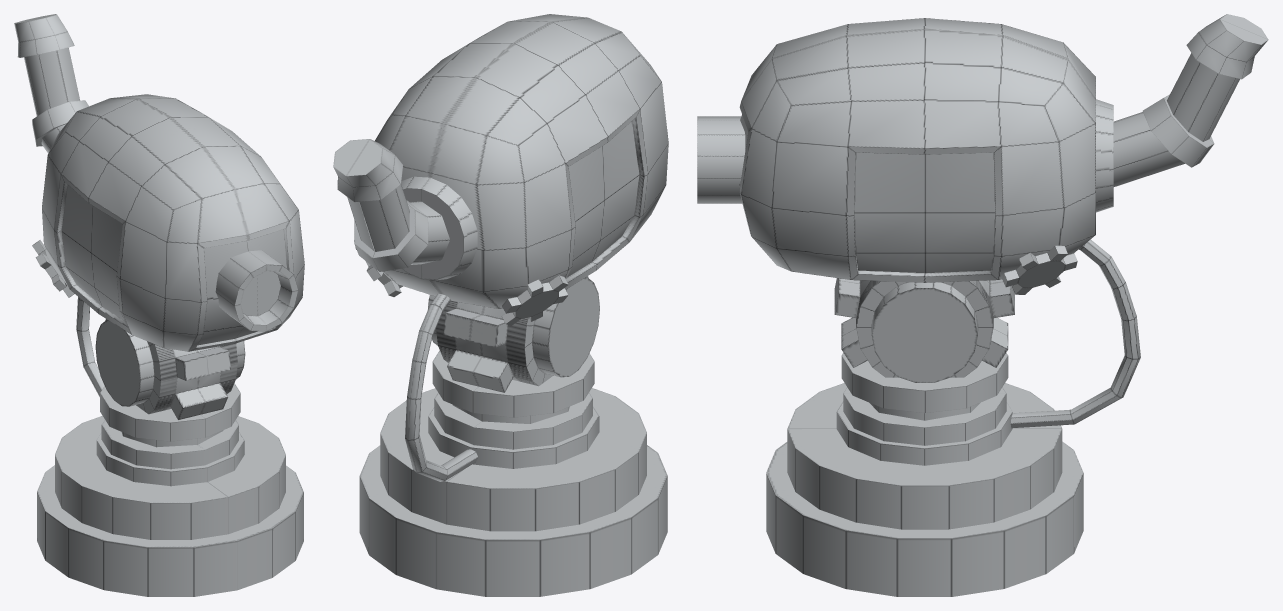
The model's file is cannon_normal.FBX.
3 renders of one model, left to right at view 1: azimuth 30°, elevation 25°; view 2: azimuth 150°, elevation 25°; view 3: azimuth 270°, elevation 25°, orthographic. The views are drawn at different scales.
Parts seen in each view (by area): view 1: Box001, Cylinder007; view 2: Box001, Cylinder007; view 3: Box001, Cylinder007.
Boxes of the visible parts, x1,y1,x2,y2 form: Box001: [14, 14, 304, 486]; Cylinder007: [37, 416, 303, 596]; Box001: [333, 14, 668, 481]; Cylinder007: [359, 388, 667, 596]; Box001: [697, 14, 1268, 465]; Cylinder007: [766, 383, 1083, 596].
Size of the model in its own units: 37.9 by 68.9 by 69.65.
